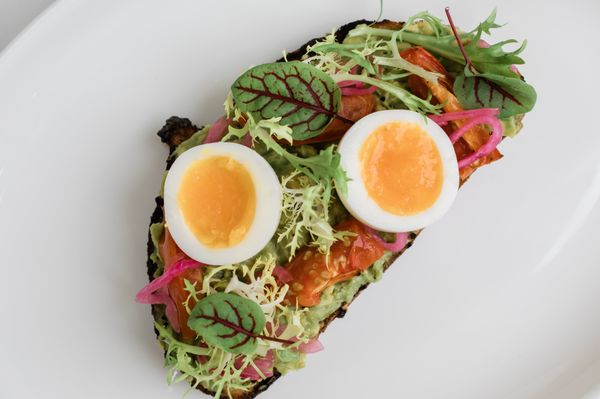taco: (337, 109, 460, 234), (162, 142, 283, 268)
